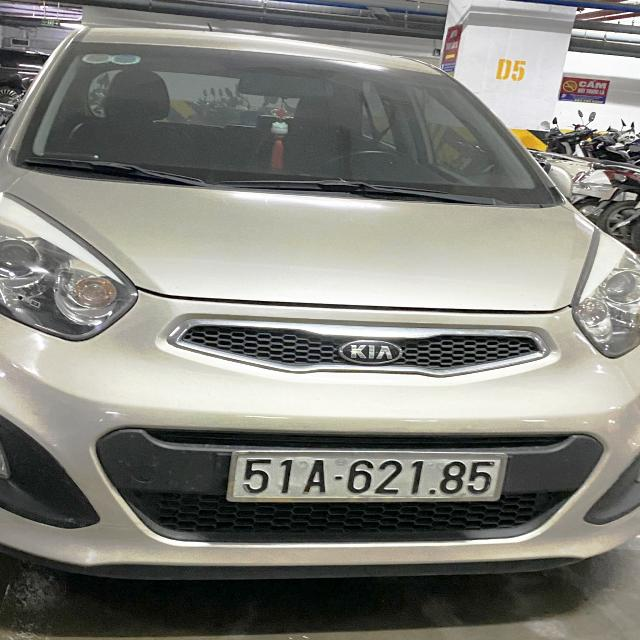license_plate: (220, 448, 511, 505)
